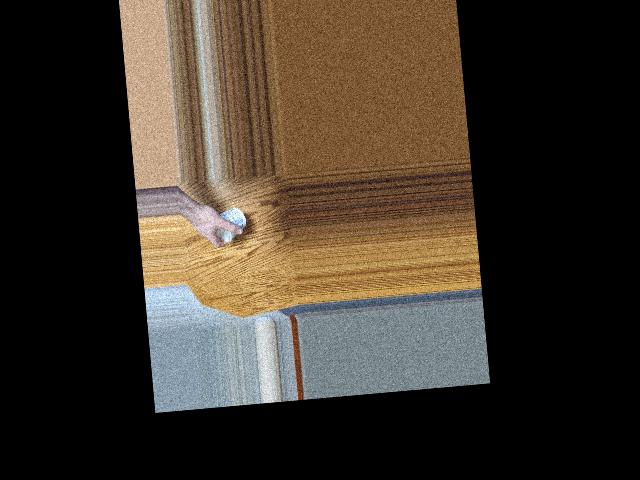cotage: (211, 206, 245, 243)
